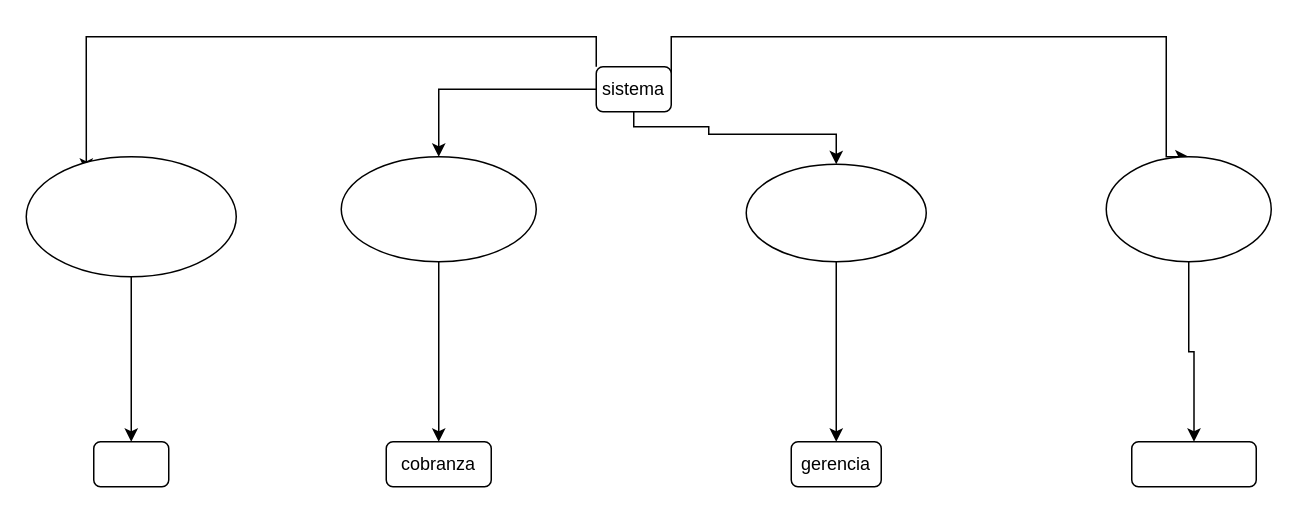
Image size: 1298x513. Some labels were removed from this diagram. Each missing label, with the centre of its shape:
"administracion" belongs at point (1193, 463).
"ventas" belongs at point (130, 463).
